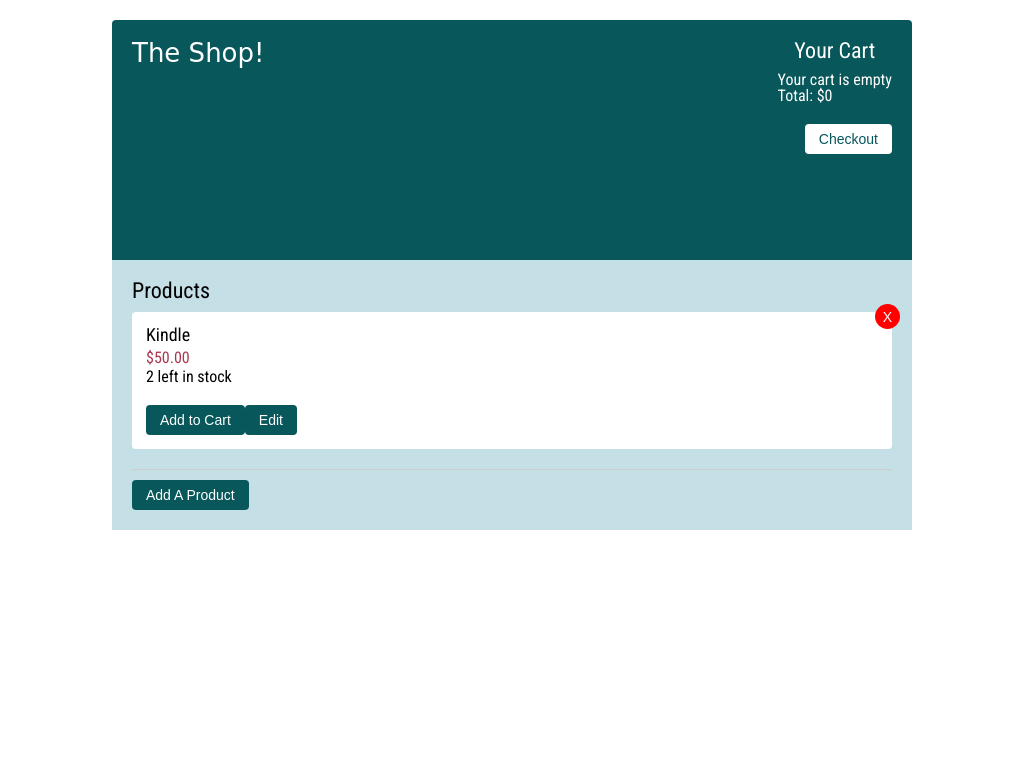
Test case: Adding a new product displays its title
Click the button "Add A Product" at coordinates (190, 495), box x1=132 y1=480 x2=249 y2=510
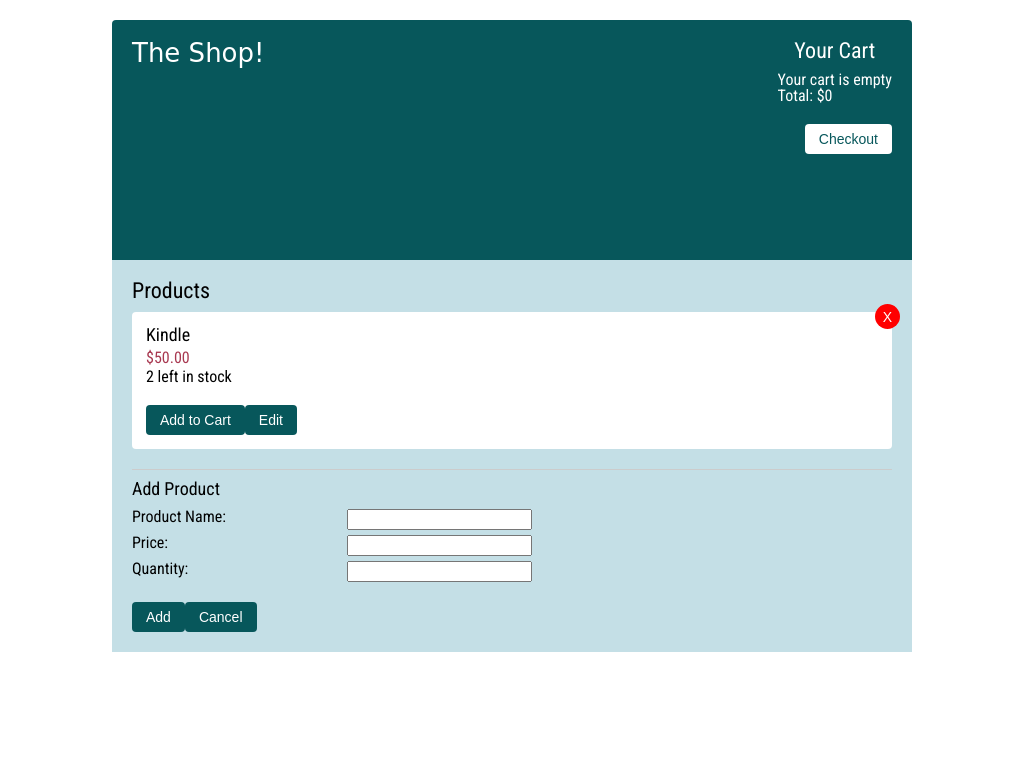
Type "Mac Mini" into the field labelled "Product Name:" at coordinates (440, 520), box x1=347 y1=509 x2=532 y2=530
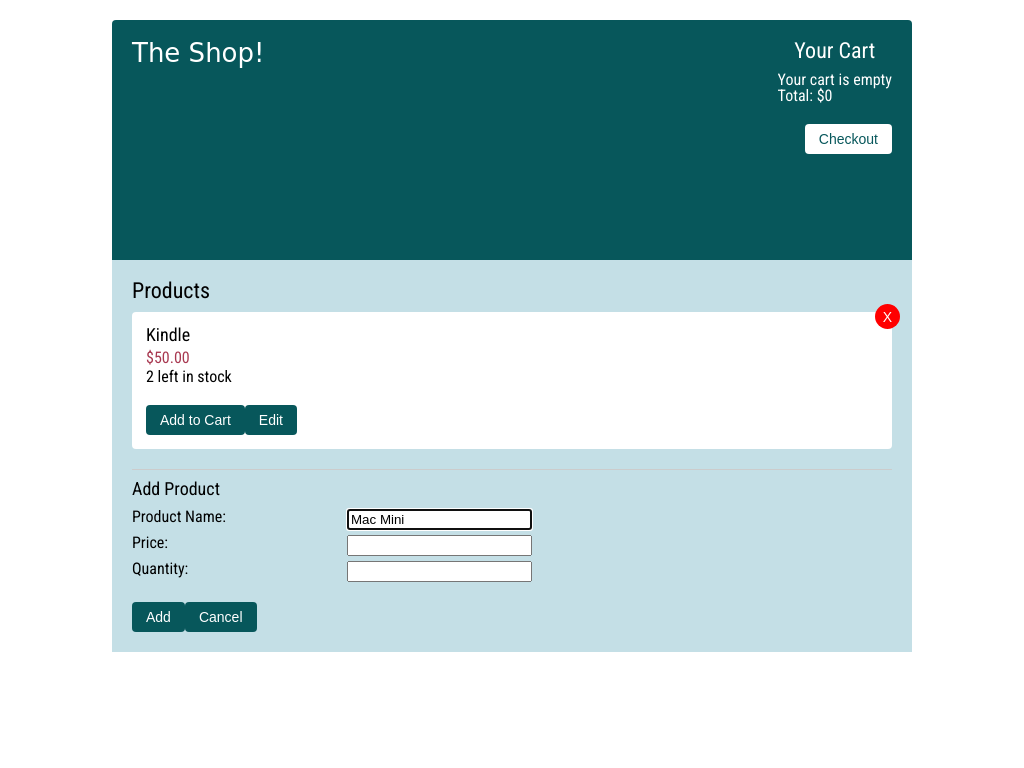
Type "850" into the number field labelled "Price:" at coordinates (440, 546), box x1=347 y1=535 x2=532 y2=556
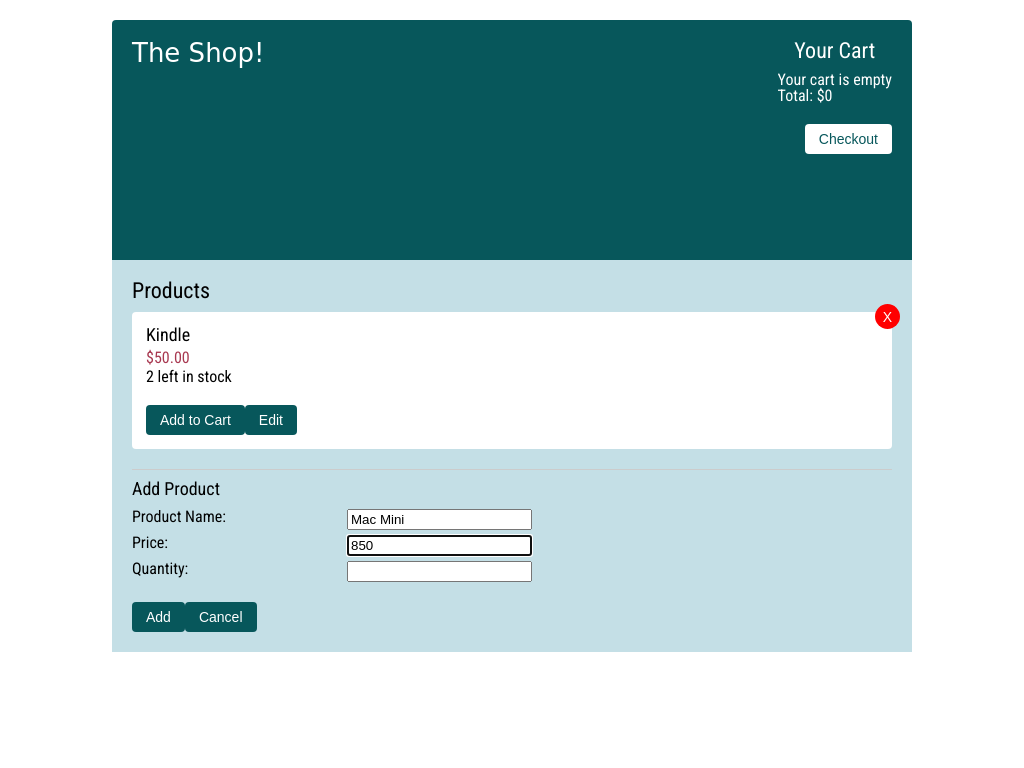
Type "7" into the number field labelled "Quantity:" at coordinates (440, 572), box x1=347 y1=561 x2=532 y2=582
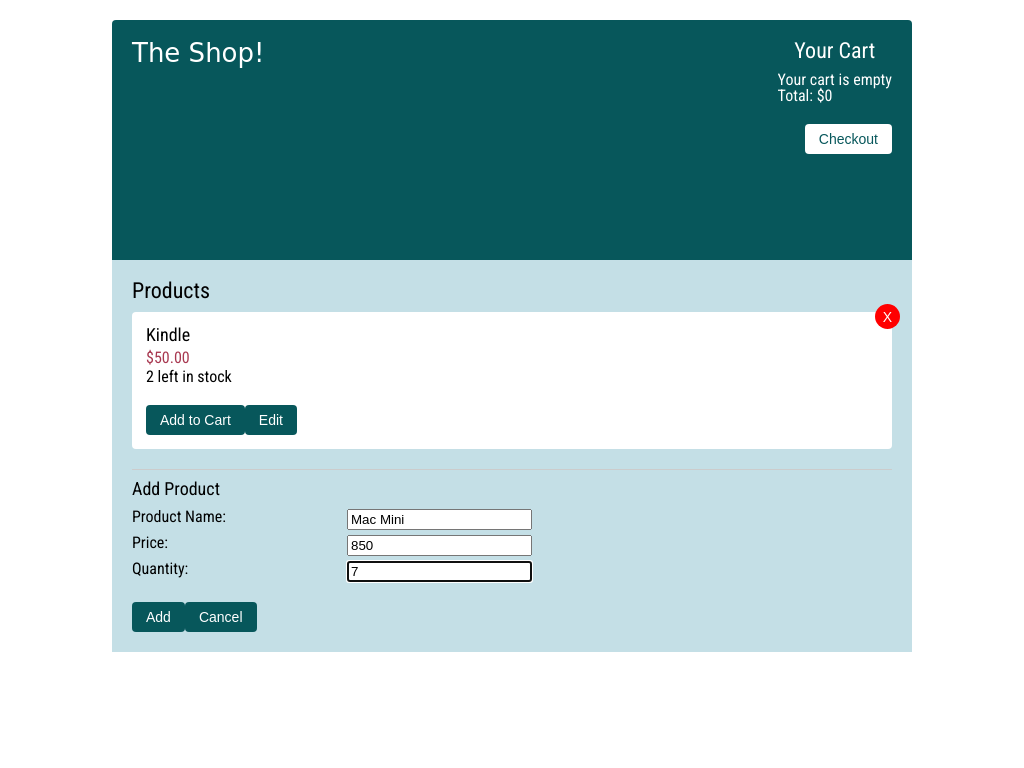
Click the button "Add" at coordinates (158, 617), box x1=132 y1=602 x2=185 y2=632
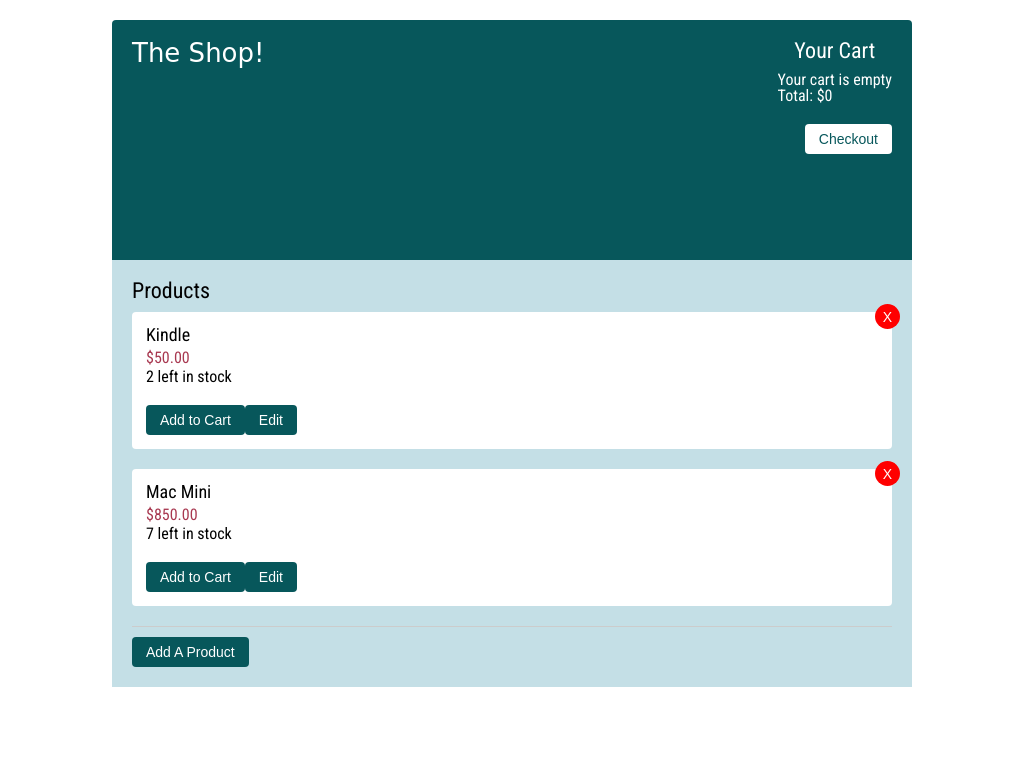
Check: the heading "Mac Mini" is shown, box x1=146 y1=481 x2=211 y2=502
